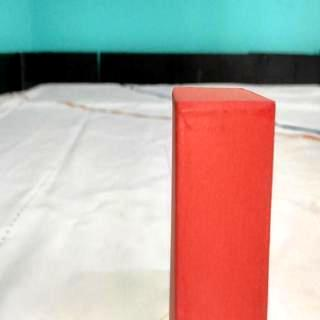redbox: (174, 88, 267, 320)
